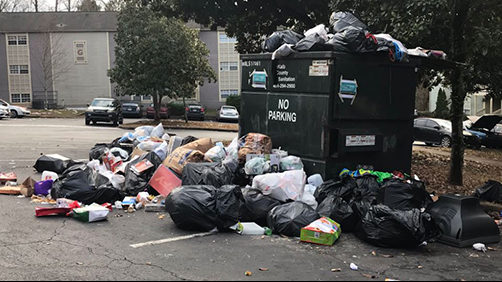Dumpster: (228, 42, 422, 195)
